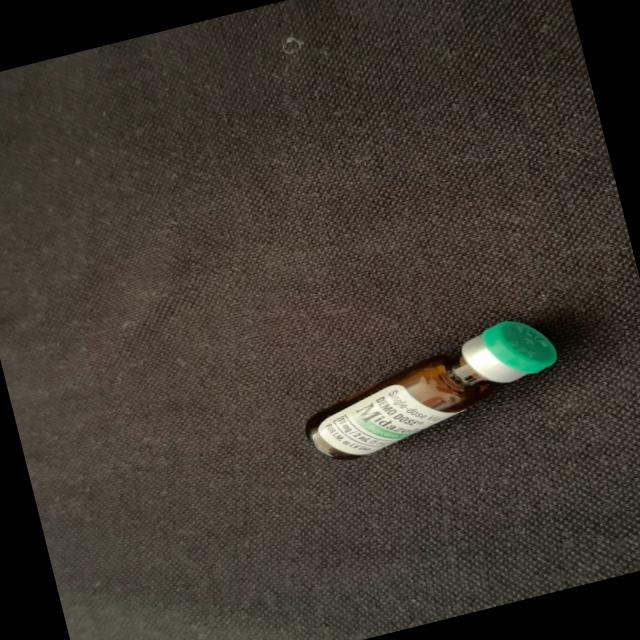midazolm: (294, 312, 565, 464)
